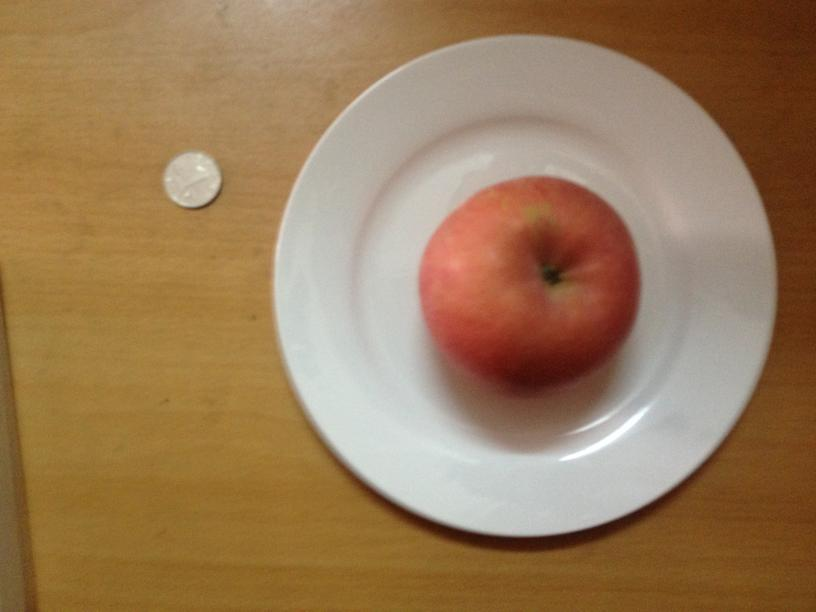apple: (414, 178, 641, 394)
coin: (162, 149, 222, 209)
